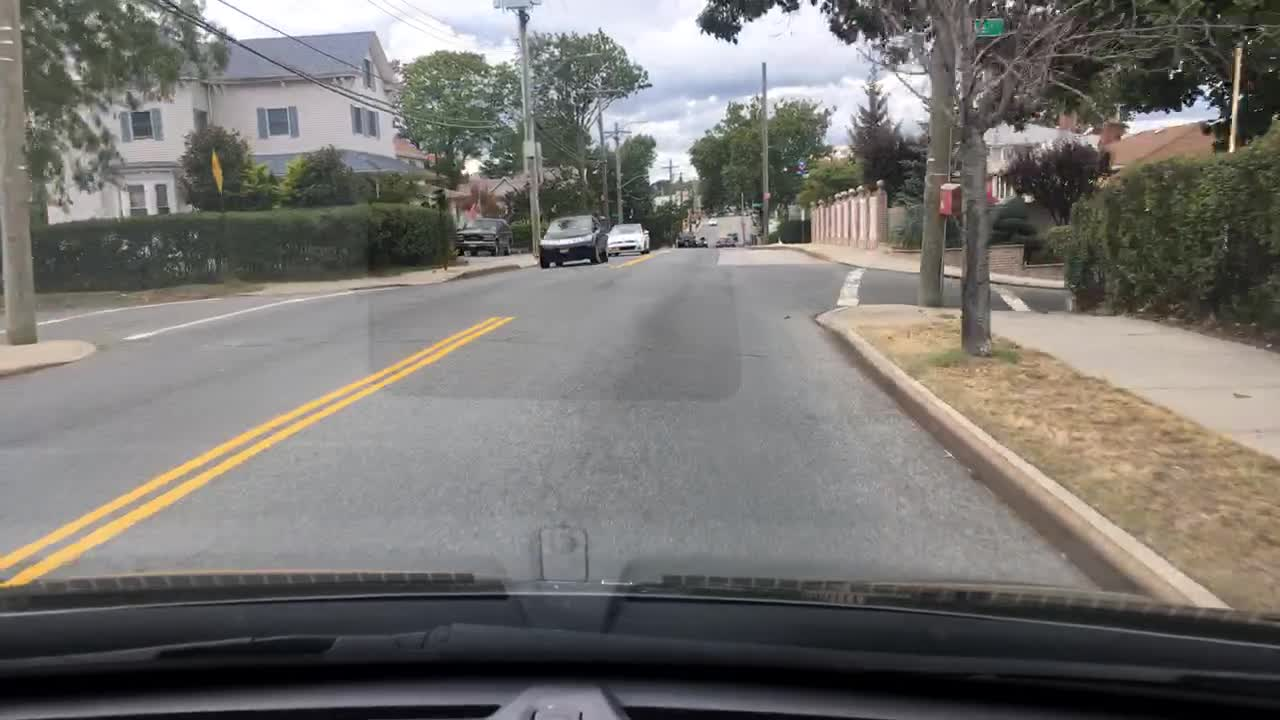car: (538, 213, 610, 269), (452, 216, 514, 256), (605, 223, 651, 257), (675, 232, 695, 249), (715, 235, 737, 249), (696, 234, 708, 248), (726, 233, 740, 241), (708, 217, 719, 226)
traffic sign: (209, 146, 225, 195), (974, 16, 1006, 34), (752, 201, 762, 207)
